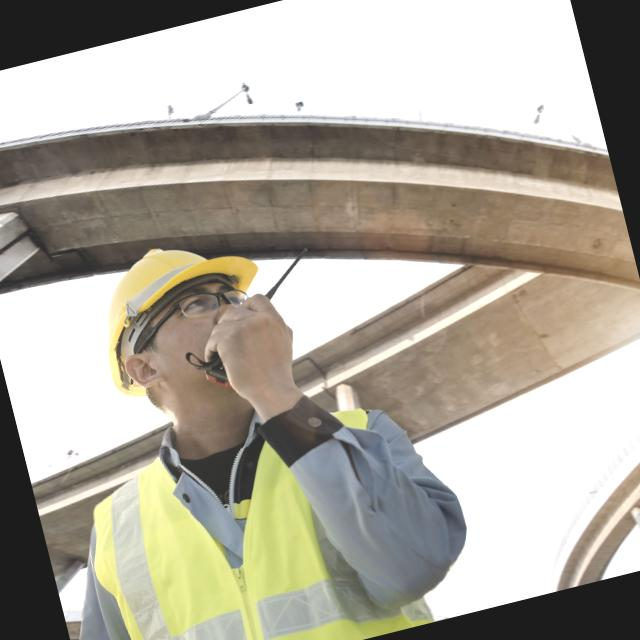goggles: (120, 274, 262, 360)
helmet: (70, 208, 256, 342)
vest: (68, 382, 422, 640)
